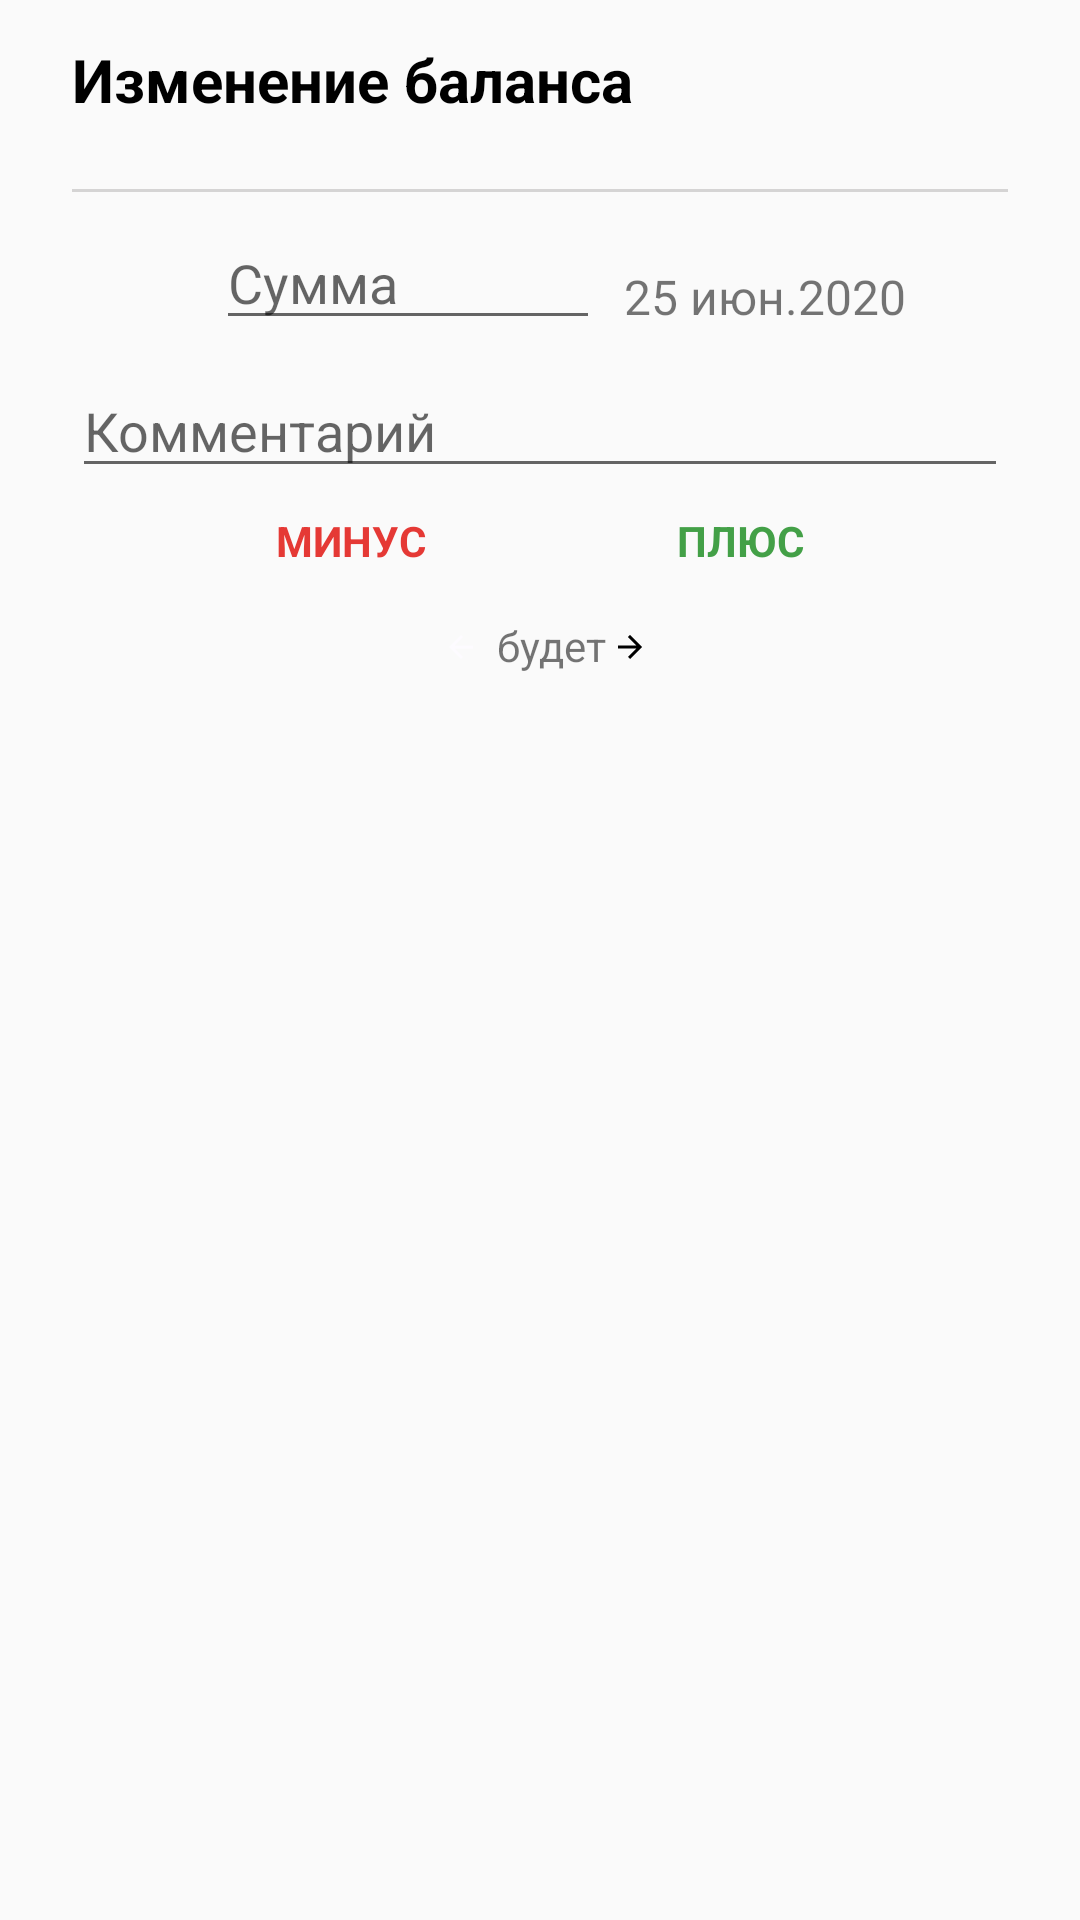

Named icons in this screenshot (1080*1920) and their bounding boxes, (x1, y1, x2, y2):
arrow forward: (618, 635, 642, 659)
